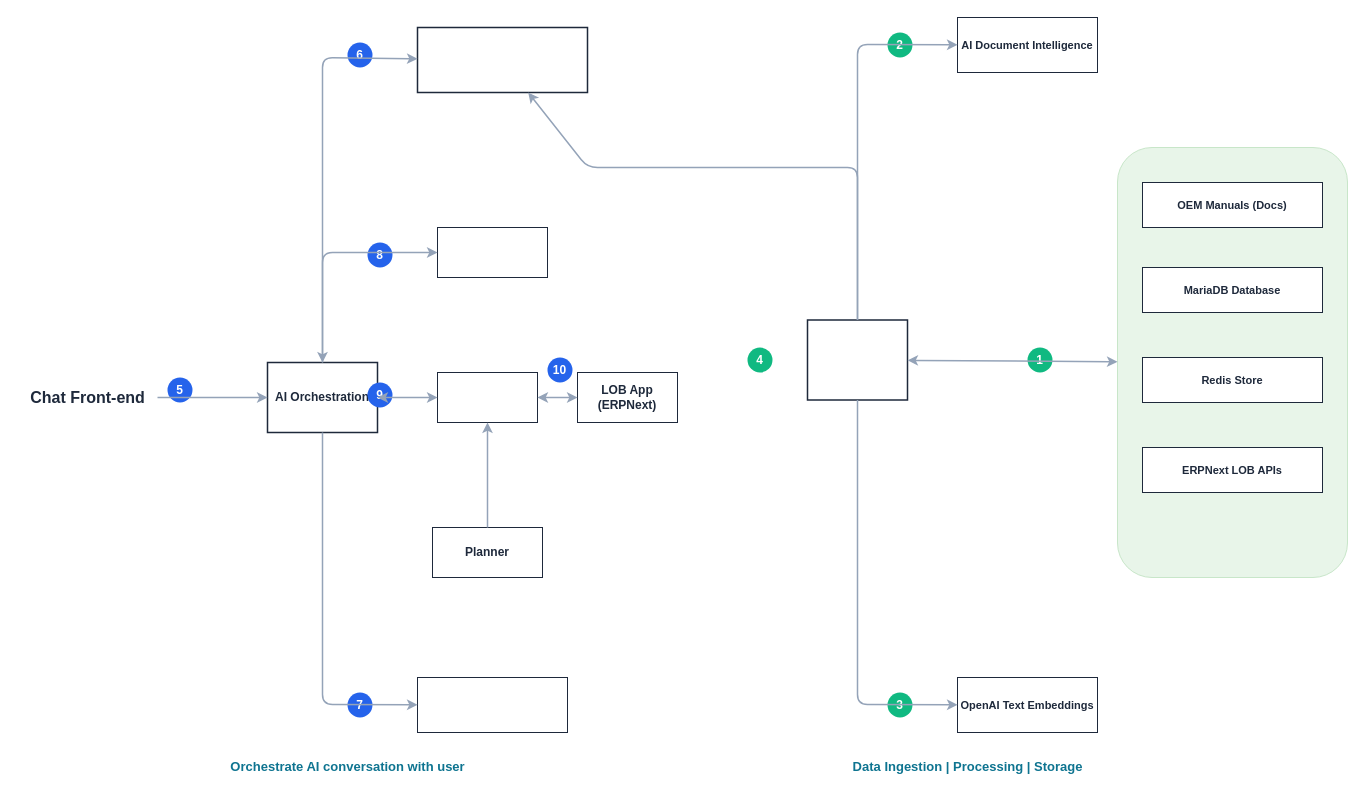
This 1365x795 diagram has some shape labels left out. The shapes that lost their labels are listed below. From the top down, each one's centre as x and y in pixels, then its label:
At pixel 502 59: "Vector DB (Qdrant) Text & Vector Index | Storage | Querying".
At pixel 492 252: "Chat State".
At pixel 857 359: "Function App".
At pixel 487 397: "Plugins".
At pixel 492 704: "OpenAI ChatGPT + Embeddings".
